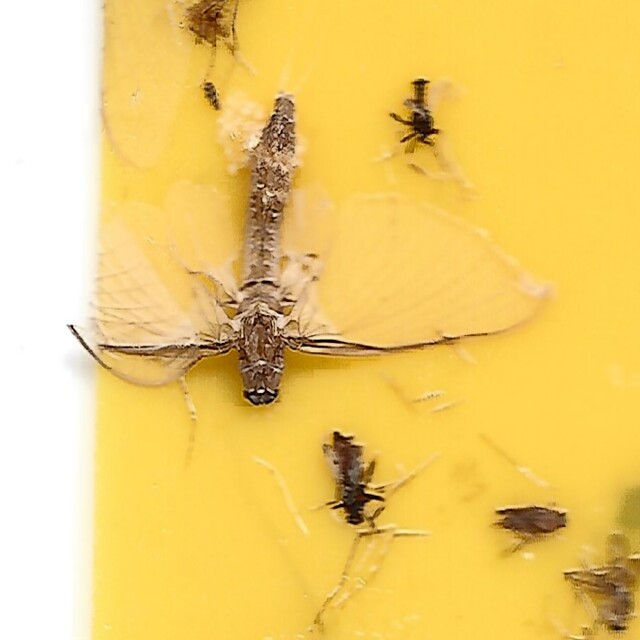Ephemeroptera: (70, 95, 551, 406)
Trichoptera: (490, 505, 570, 545)
